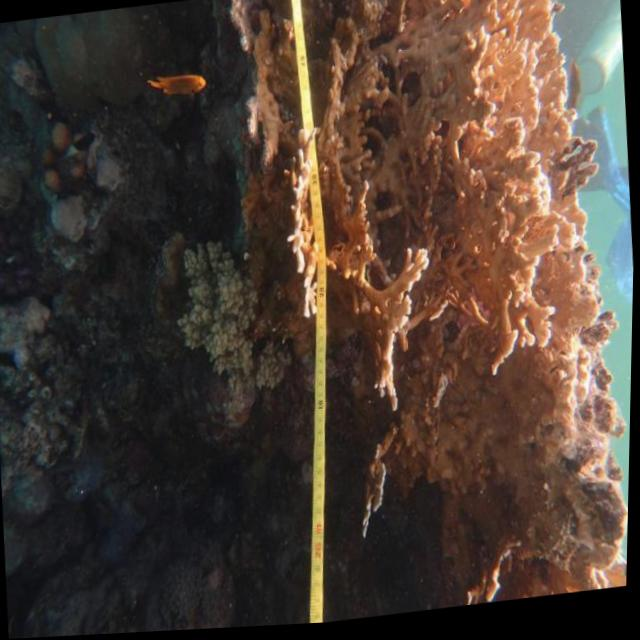Healthy Coral: (248, 0, 640, 629)
